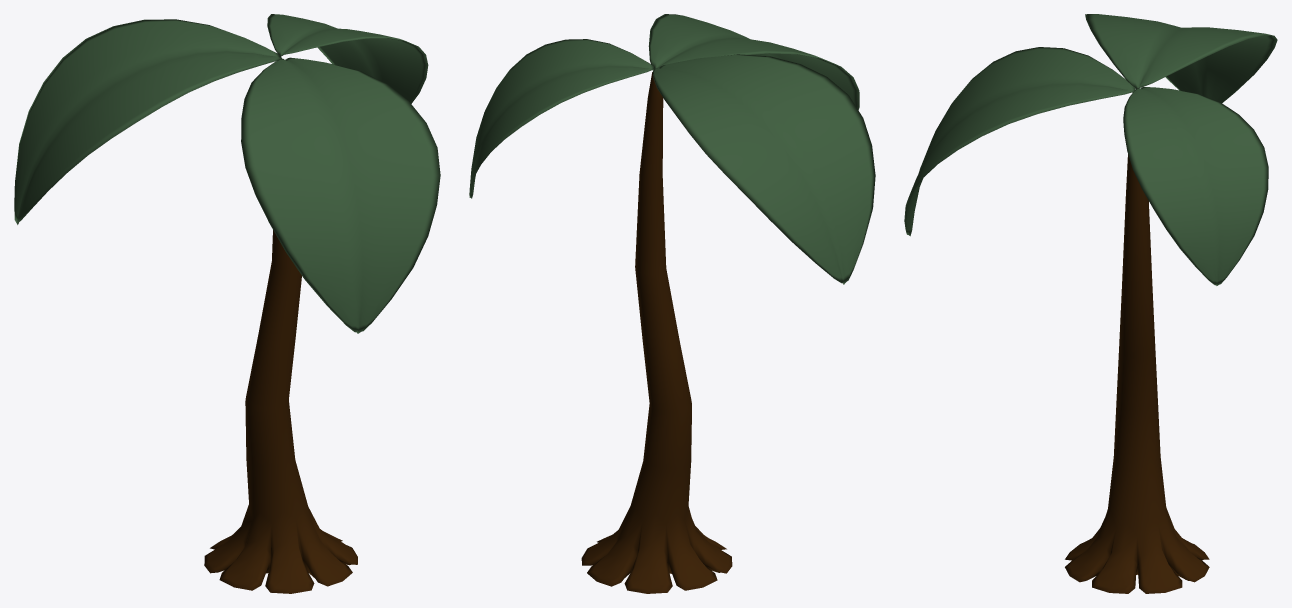
File: palmTree.fbx
The picture shows the model from 3 angles, left to right: view 1: azimuth 30°, elevation 25°; view 2: azimuth 150°, elevation 25°; view 3: azimuth 270°, elevation 25°; orthographic projection. The views are drawn at different scales.
Visible parts, largest first — view 1: leaf2, leaf1, palmBase, leaf3; view 2: leaf1, palmBase, leaf3, leaf2; view 3: palmBase, leaf3, leaf2, leaf1.
Boxes of the visible parts, x1,y1,x2,y2 form: leaf2: (241, 57, 440, 333); leaf1: (14, 19, 281, 224); palmBase: (204, 230, 357, 593); leaf3: (267, 14, 428, 103); leaf1: (652, 54, 875, 284); palmBase: (581, 72, 732, 593); leaf3: (469, 39, 654, 198); leaf2: (648, 14, 859, 109); palmBase: (1065, 154, 1209, 593); leaf3: (1123, 87, 1268, 285); leaf2: (904, 47, 1135, 236); leaf1: (1085, 14, 1277, 102).
Bounding box in the file's own units: 75.82 × 96.82 × 66.32.
